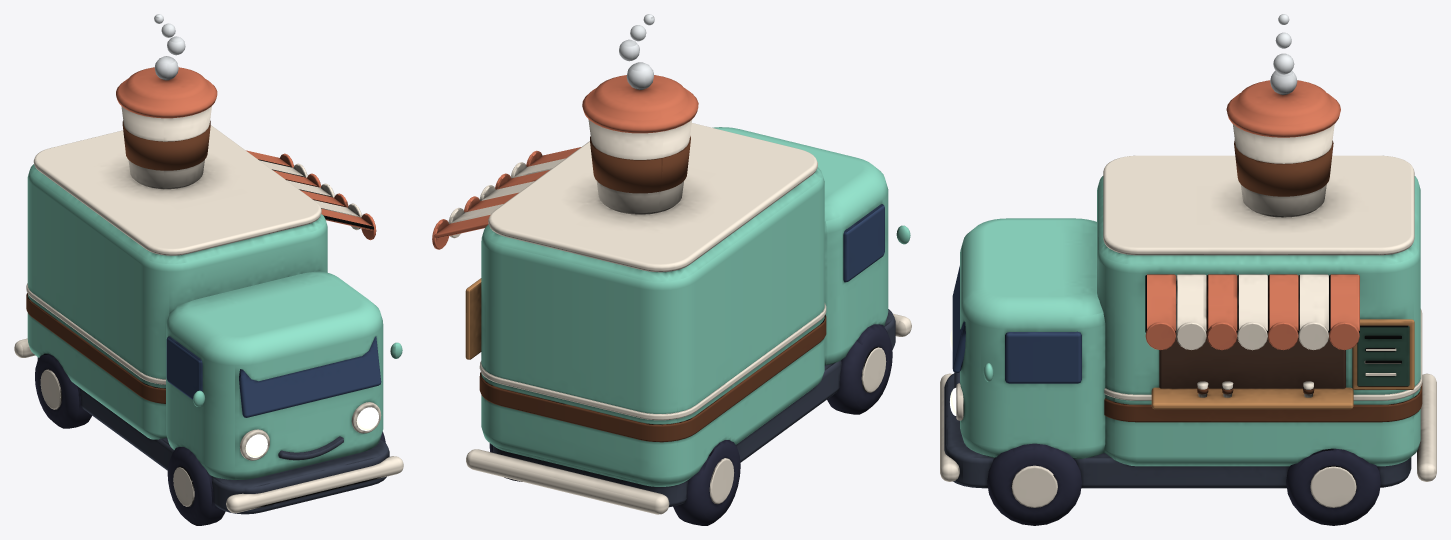
The model's file is coffee_truck.glb.
3 views of the same model, side by side, from view 1: azimuth 30°, elevation 25°; view 2: azimuth 150°, elevation 25°; view 3: azimuth 270°, elevation 25° (orthographic). The views are drawn at different scales.
Parts seen in each view (by area): view 1: coffee_truck; view 2: coffee_truck; view 3: coffee_truck.
Boxes of the visible parts, <box> form: coffee_truck: <box>14,14,403,525</box>; coffee_truck: <box>432,14,911,525</box>; coffee_truck: <box>940,14,1436,525</box>.
Bounding box in the file's own units: 2.64 × 4.08 × 3.99.
Materials: 12 (11 with a texture image).
